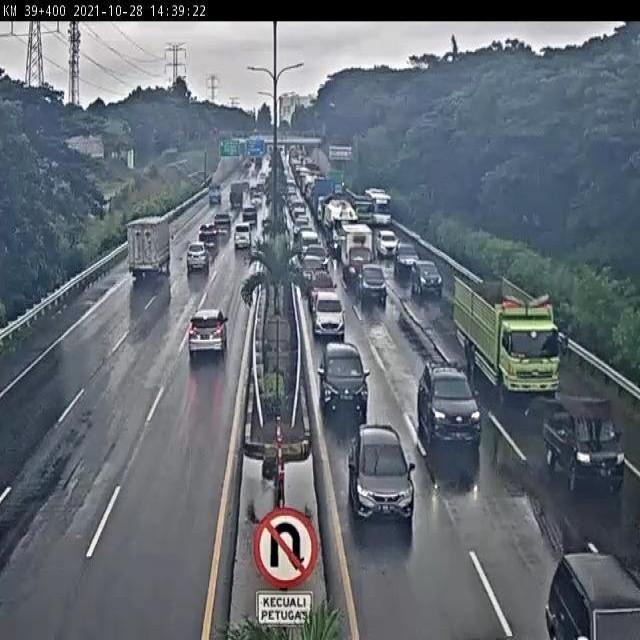car: (349, 422, 414, 518), (418, 366, 481, 446), (319, 340, 370, 409), (188, 308, 227, 355), (315, 291, 344, 336), (309, 273, 339, 308), (411, 263, 443, 293), (360, 264, 388, 296), (394, 242, 419, 274), (186, 243, 210, 269), (199, 222, 221, 250), (304, 257, 325, 284), (233, 221, 254, 247), (305, 244, 328, 265)
mid truck: (453, 275, 560, 396), (127, 215, 167, 277)
small truck: (543, 397, 623, 487), (340, 222, 374, 278)
